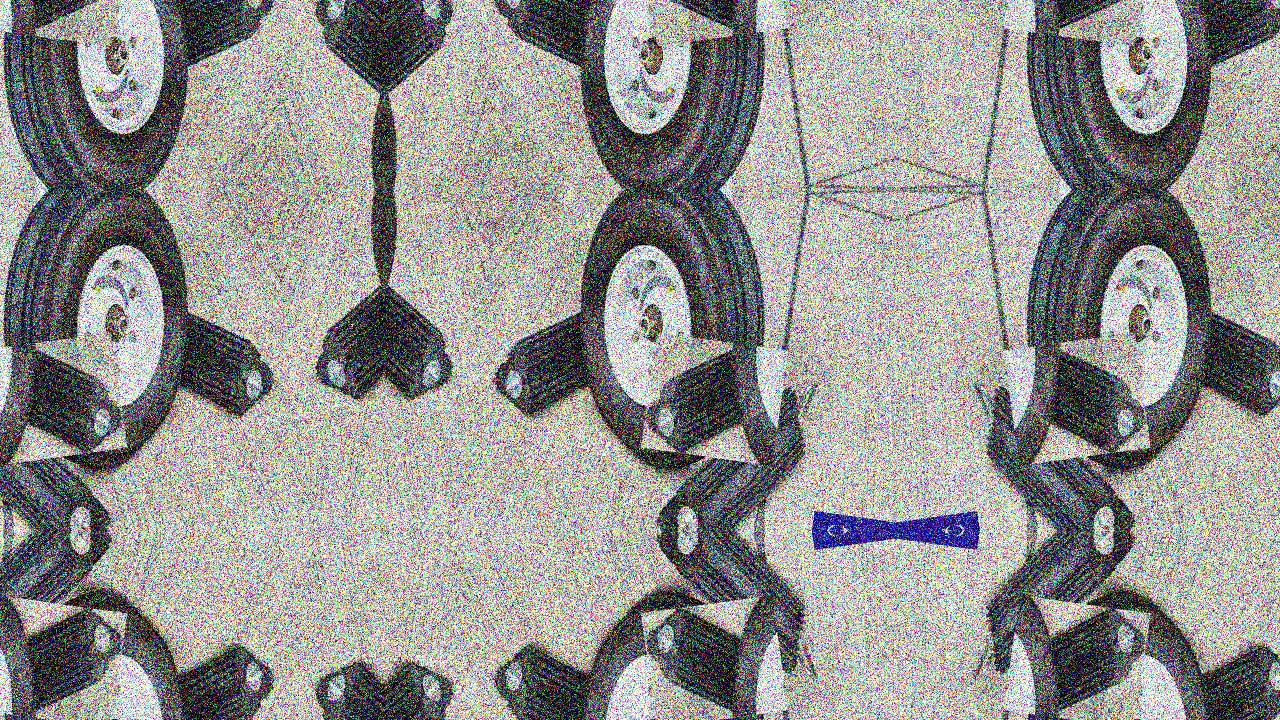chock: (652, 369, 815, 531), (977, 369, 1140, 531), (652, 531, 815, 692), (977, 531, 1140, 692), (641, 332, 788, 466), (1004, 332, 1151, 466), (132, 295, 279, 428), (489, 295, 636, 428), (0, 369, 116, 531), (0, 531, 116, 692), (641, 596, 788, 720), (1004, 596, 1151, 720), (0, 332, 127, 466), (1156, 295, 1280, 428), (0, 596, 127, 720), (132, 633, 279, 720), (489, 633, 636, 720), (132, 0, 279, 84), (489, 0, 636, 84), (303, 271, 384, 405), (384, 271, 465, 405), (1156, 633, 1280, 720), (1156, 0, 1280, 84), (303, 0, 384, 108), (384, 0, 465, 108), (641, 0, 788, 46), (1004, 0, 1151, 46), (0, 0, 127, 46), (303, 657, 384, 720), (384, 657, 465, 720), (652, 0, 815, 9), (977, 0, 1140, 9)
wheel: (557, 189, 787, 483), (1005, 189, 1235, 483), (0, 189, 211, 483), (557, 0, 787, 189), (1005, 0, 1235, 189), (0, 0, 211, 189), (557, 579, 787, 720), (1005, 579, 1235, 720), (0, 579, 211, 720)
